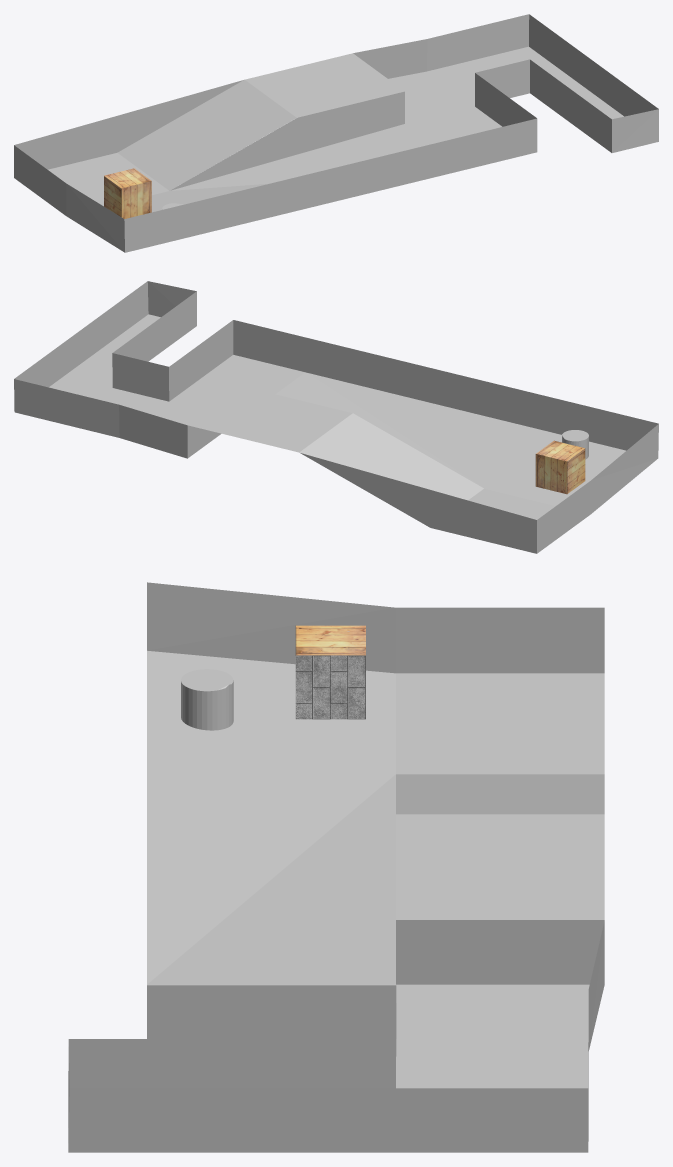
File: TestStage.fbx
3 views of the same model, one above another, from view 1: azimuth 30°, elevation 25°; view 2: azimuth 150°, elevation 25°; view 3: azimuth 270°, elevation 25° (orthographic). The views are drawn at different scales.
Parts seen in each view (by area): view 1: Plane, Cube; view 2: Plane, Cube; view 3: Plane, Cube.
Boxes of the visible parts, left/top/right/bottom form: Plane: left=14, top=14, right=658, bottom=252; Cube: left=104, top=168, right=151, bottom=218; Plane: left=14, top=281, right=658, bottom=553; Cube: left=535, top=440, right=585, bottom=494; Plane: left=68, top=582, right=604, bottom=1152; Cube: left=295, top=625, right=365, bottom=719.
Bounding box in the file's own units: 67.64 × 5.46 × 30.49.
